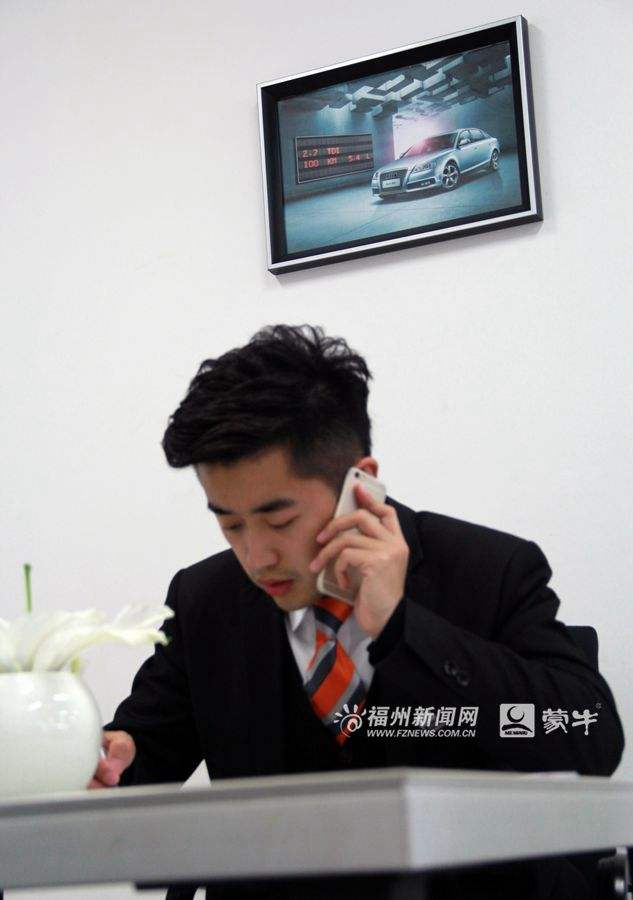calling: (308, 460, 410, 628)
